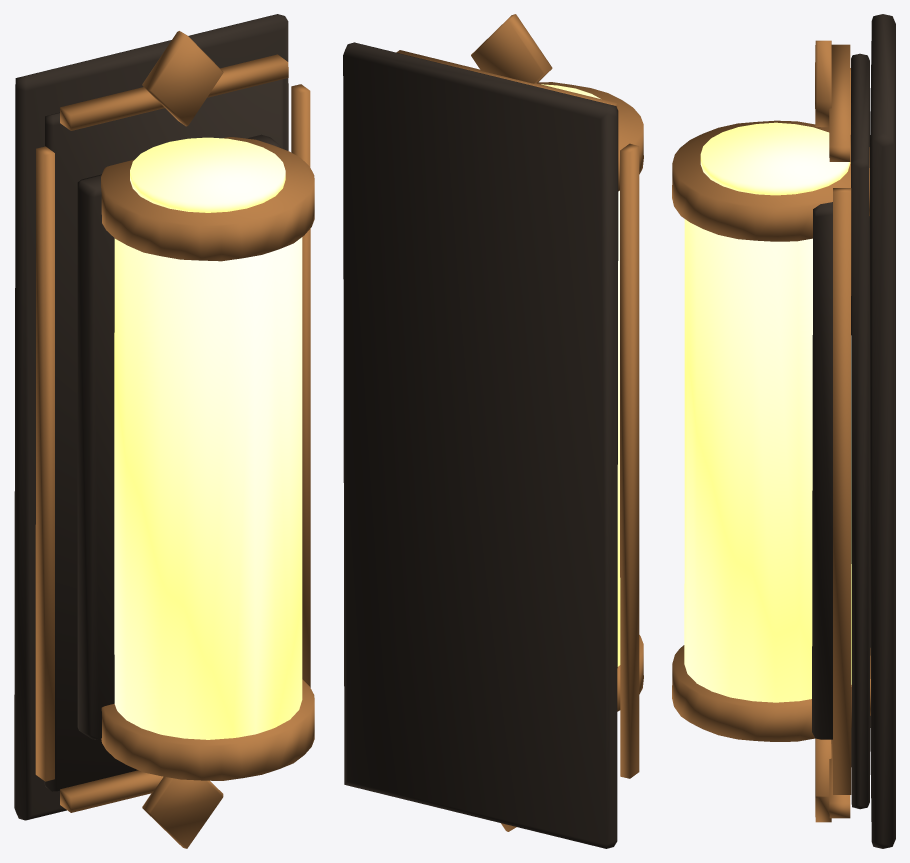
Rendered from CasinoWallLamp_Restored.fbx.
3 renders of one model, left to right at view 1: azimuth 30°, elevation 25°; view 2: azimuth 150°, elevation 25°; view 3: azimuth 270°, elevation 25°, orthographic. The views are drawn at different scales.
Parts seen in each view (by area): view 1: CasinoWallLamp_Restored; view 2: CasinoWallLamp_Restored; view 3: CasinoWallLamp_Restored.
Boxes of the visible parts, <box> form: CasinoWallLamp_Restored: <box>14,14,314,848</box>; CasinoWallLamp_Restored: <box>343,14,643,848</box>; CasinoWallLamp_Restored: <box>672,14,895,848</box>.
Size of the model in its own units: 42.16 by 120 by 31.21.
